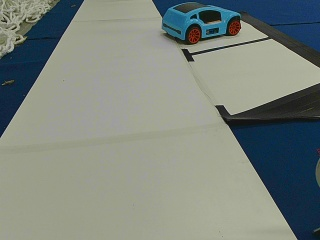car: (162, 3, 243, 43)
